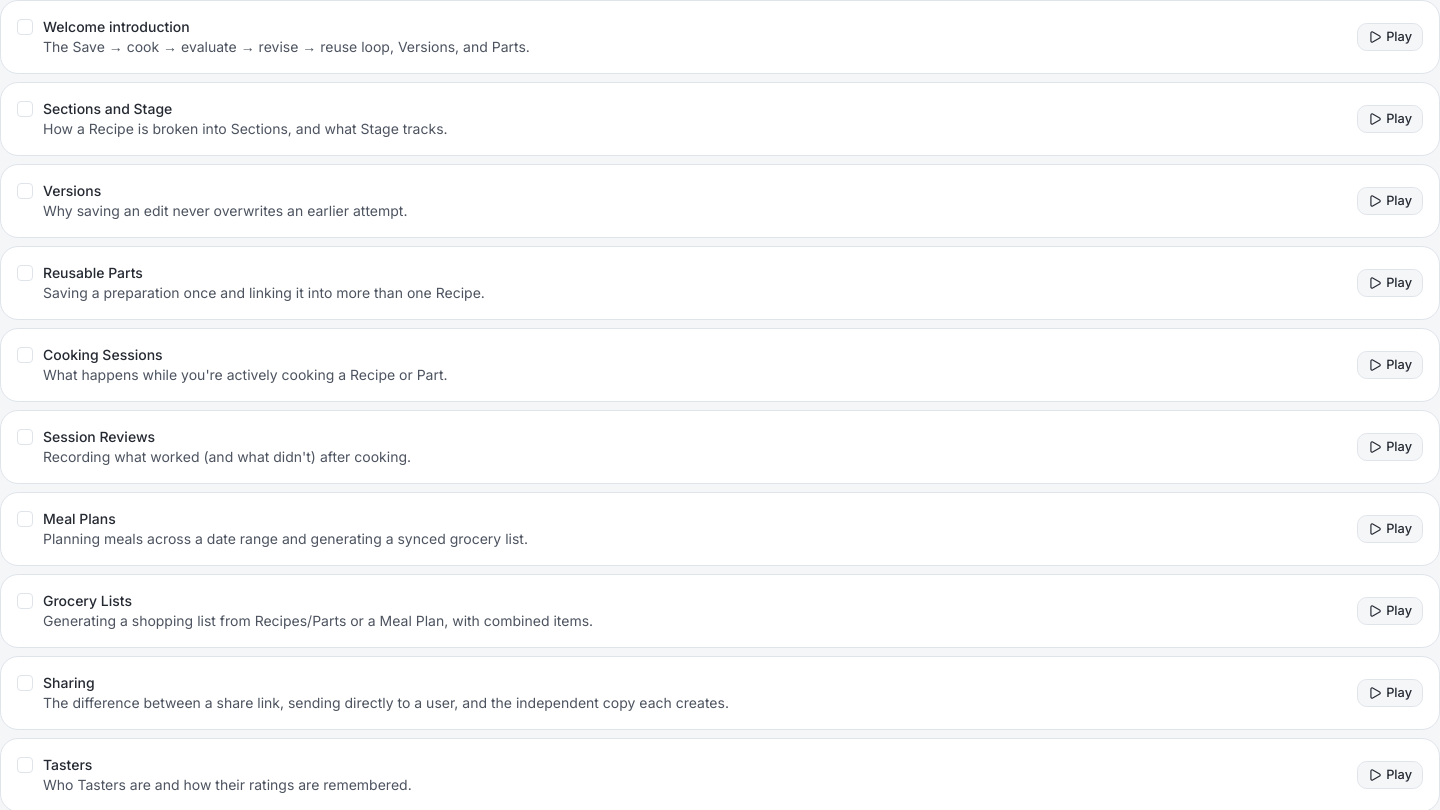
Test case: ReplayableGuideList › checking the completion checkbox marks the guide completed without navigating
Click the checkbox named "Tasters guide completed". click: (25, 765)
box: [17,757,33,773]
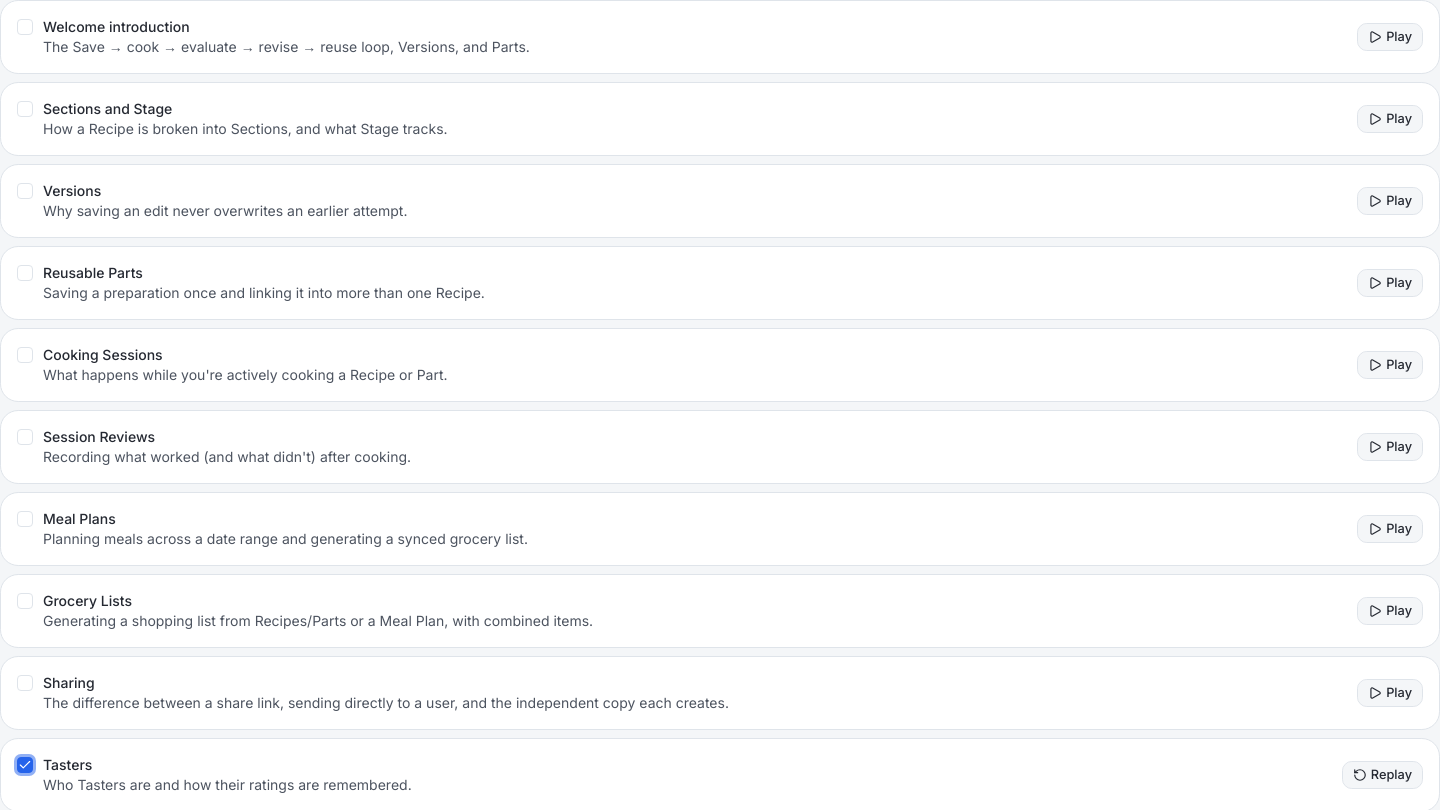
Result: the button with aria-label "Replay Tasters guide" is shown at [1342,761,1423,789]
